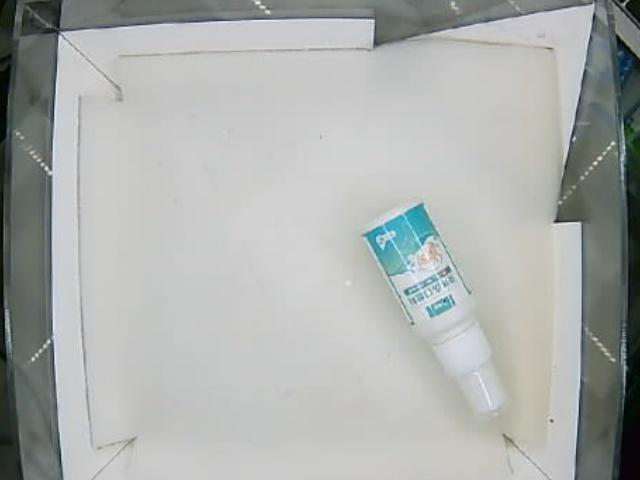Bottle: (361, 195, 512, 424)
